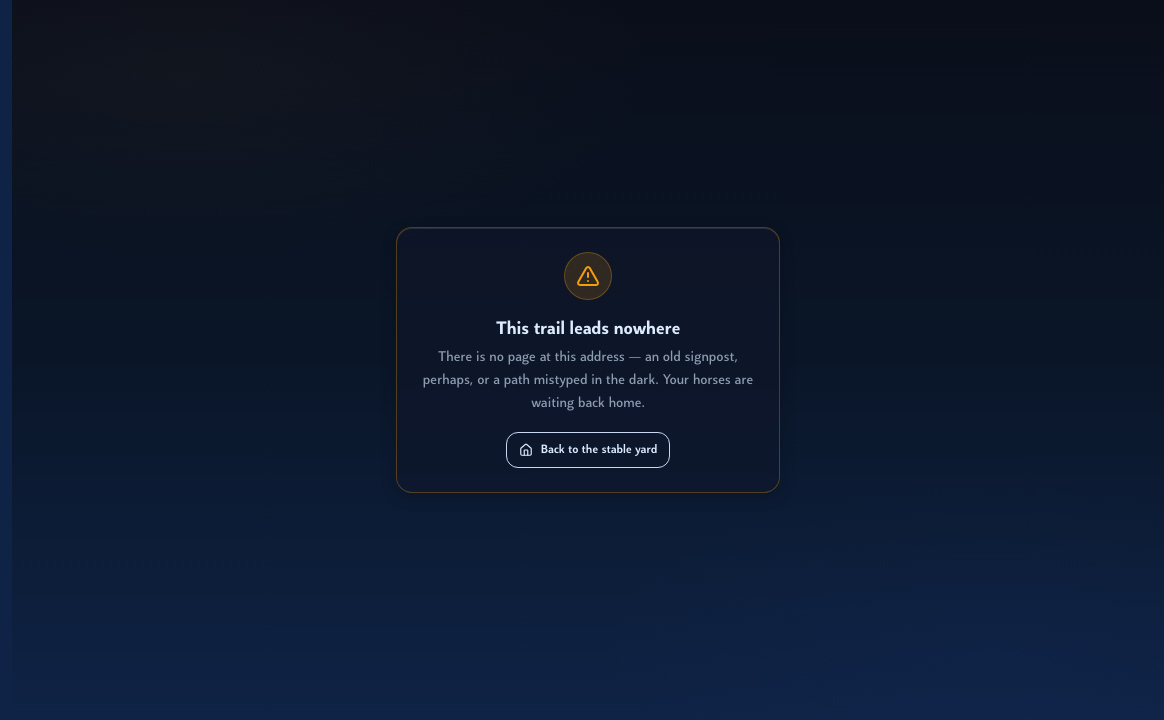
Test case: NotFoundPage (Equoria-bvddn.35) › offers a way home that travels to the start of the game
Click the button "Back to the stable yard".
click(588, 450)  # box x1=506 y1=432 x2=670 y2=468
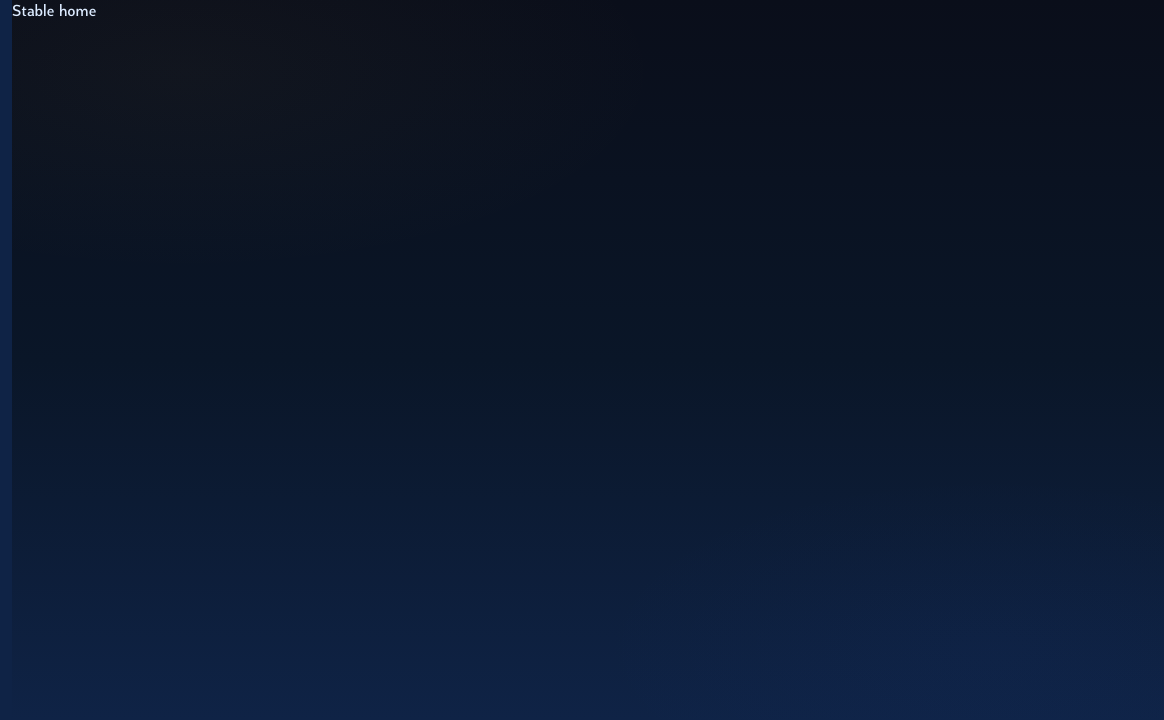
expect the text "Stable home" is shown: met, box x1=12 y1=4 x2=97 y2=20
expect the element with test id "not-found-page" is gone: met
